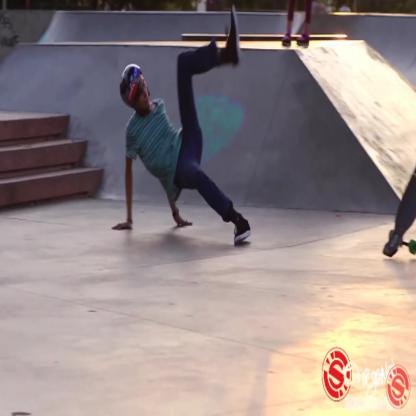Fall_Down: (112, 5, 252, 246)
